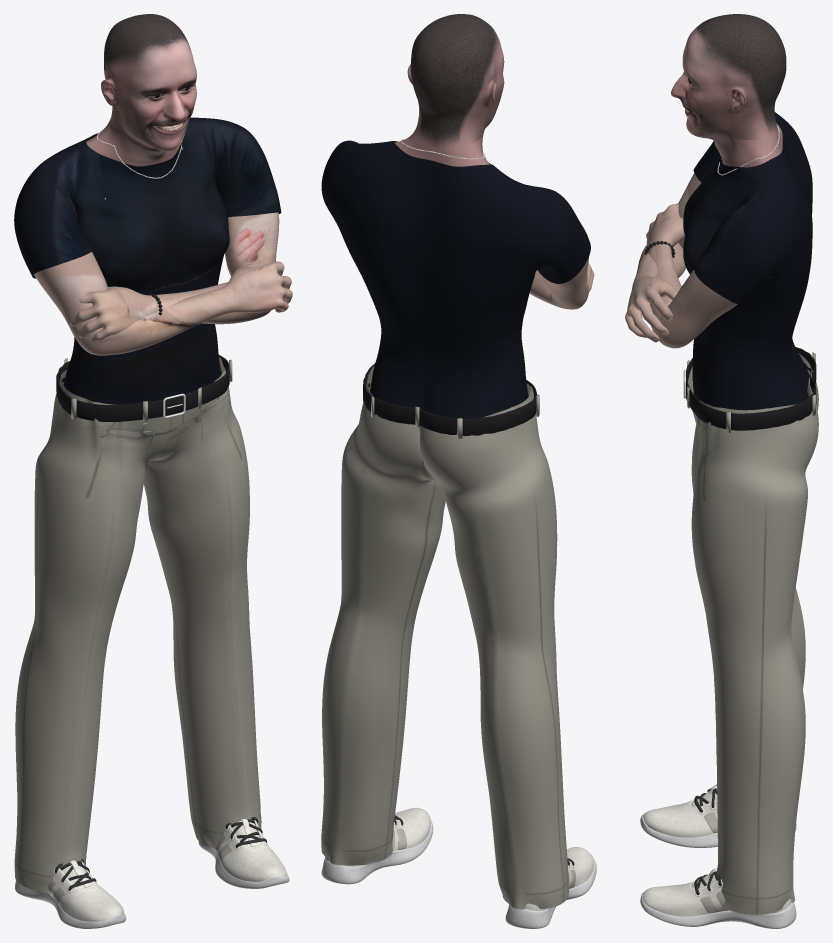
The model's file is nitsan-mobile.glb.
3 views of the same model, side by side, from view 1: azimuth 30°, elevation 25°; view 2: azimuth 150°, elevation 25°; view 3: azimuth 270°, elevation 25° (orthographic).
Parts seen in each view (by area): view 1: pants, tee, skin, head, shoe_r, shoe_l, belt; view 2: pants, tee, head, belt, shoe_l, shoe_r, skin; view 3: pants, tee, head, skin, shoe_l, shoe_r, belt.
Part boxes in pixels (<box>): pants: <box>14,356,261,892</box>; tee: <box>14,117,281,404</box>; skin: <box>34,212,292,355</box>; head: <box>86,14,196,166</box>; shoe_r: <box>15,859,126,928</box>; shoe_l: <box>198,817,289,888</box>; belt: <box>56,355,229,421</box>; pants: <box>321,366,568,909</box>; tee: <box>321,140,590,430</box>; head: <box>394,14,504,166</box>; belt: <box>363,363,536,436</box>; shoe_l: <box>321,807,433,884</box>; shoe_r: <box>505,847,596,928</box>; skin: <box>529,257,594,309</box>; pants: <box>688,353,818,914</box>; tee: <box>683,112,812,410</box>; head: <box>671,14,786,167</box>; skin: <box>625,173,737,348</box>; shoe_l: <box>640,868,796,928</box>; shoe_r: <box>640,784,796,847</box>; belt: <box>686,347,816,430</box>.
Bounding box in the file's own units: 0.5567 × 1.85 × 0.3789.
Materials: 11 (7 with a texture image).
